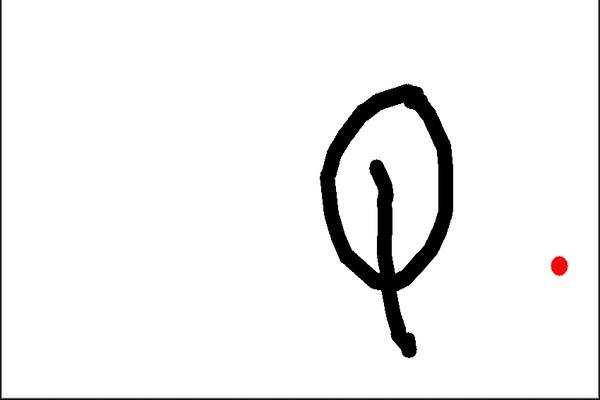Q: (302, 71, 471, 368)
